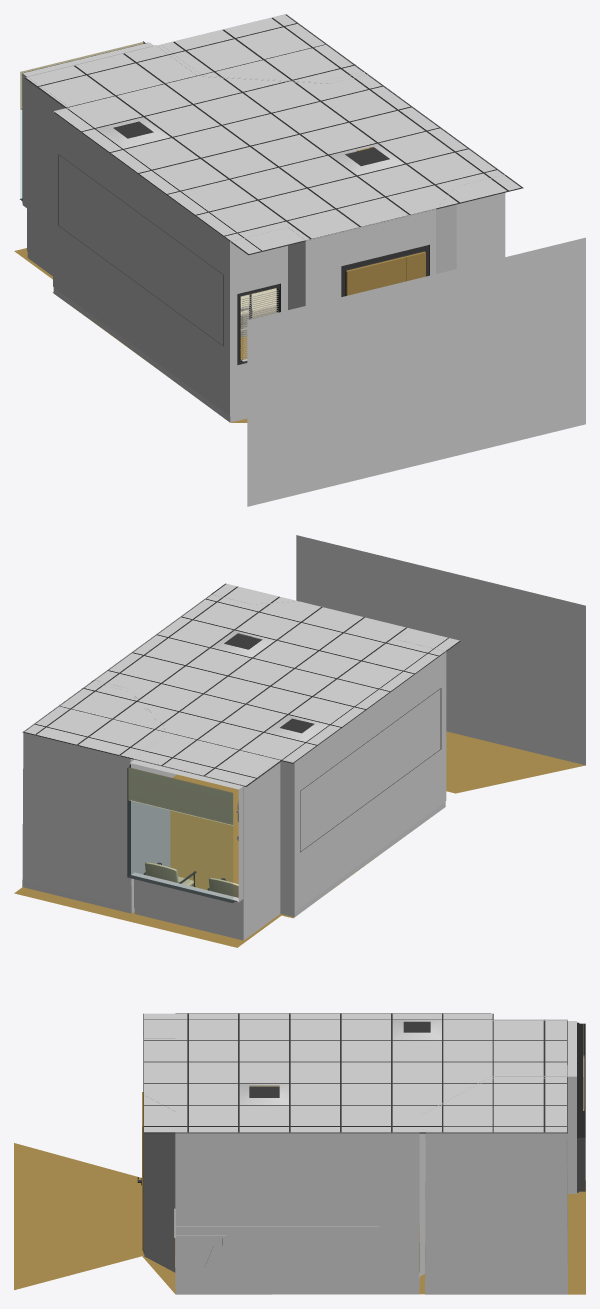
The model's file is Room_Fin.fbx.
3 views of the same model, one above another, from view 1: azimuth 30°, elevation 25°; view 2: azimuth 150°, elevation 25°; view 3: azimuth 270°, elevation 25° (orthographic). The views are drawn at different scales.
Visible parts, largest first — view 1: Floor, Ceiling, Walls, Door_Entrance, Mattress, Blinds_Small; view 2: Walls, Ceiling, Floor, Blinds_Large, Chair1; view 3: Walls, Ceiling, Floor.
Boxes of the visible parts, bbox=[...] form: Floor: bbox=[14, 237, 585, 506]; Ceiling: bbox=[24, 14, 523, 255]; Walls: bbox=[20, 14, 505, 422]; Door_Entrance: bbox=[346, 256, 405, 295]; Mattress: bbox=[240, 288, 276, 316]; Blinds_Small: bbox=[241, 290, 278, 361]; Walls: bbox=[22, 594, 446, 940]; Ceiling: bbox=[22, 583, 460, 786]; Floor: bbox=[14, 535, 585, 947]; Blinds_Large: bbox=[128, 767, 233, 825]; Chair1: bbox=[143, 862, 196, 886]; Walls: bbox=[142, 1013, 585, 1294]; Ceiling: bbox=[143, 1013, 567, 1133]; Floor: bbox=[14, 1143, 585, 1294].
Bounding box in the file's own units: 17.96 × 9.3 × 28.57.
